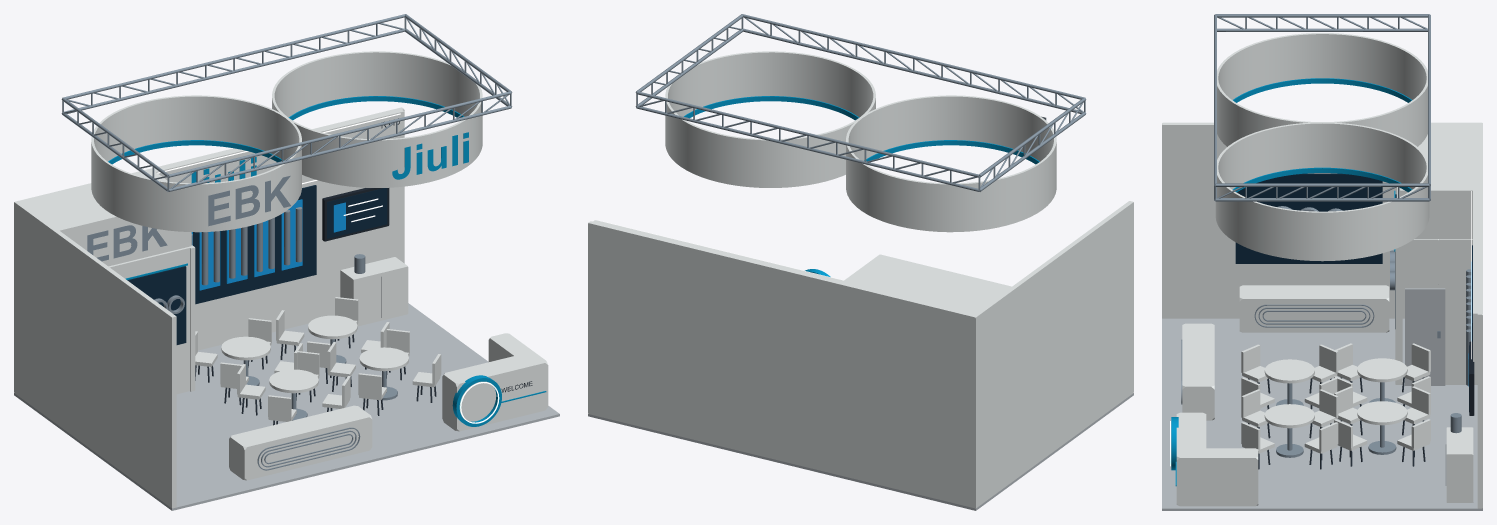
File: jiuli-r110.glb
The picture shows the model from 3 angles, left to right: view 1: azimuth 30°, elevation 25°; view 2: azimuth 150°, elevation 25°; view 3: azimuth 270°, elevation 25°; orthographic projection.
Parts seen in each view (by area): view 1: JIULI_R110__Architecture, JIULI_R110__Hanging_Ring_01, JIULI_R110__Hanging_Ring_02, JIULI_R110__Hanging_Truss, JIULI_R110__Product_Panel, JIULI_R110__Reception, JIULI_R110__Pipe_Exhibit_01, JIULI_R110__Meeting_Set_04, JIULI_R110__Service_Cabinet, JIULI_R110__Meeting_Set_03, JIULI_R110__Meeting_Set_01, JIULI_R110__Meeting_Set_02 (+5 smaller); view 2: JIULI_R110__Architecture, JIULI_R110__Hanging_Ring_01, JIULI_R110__Hanging_Ring_02, JIULI_R110__Hanging_Truss; view 3: JIULI_R110__Architecture, JIULI_R110__Hanging_Ring_02, JIULI_R110__Hanging_Ring_01, JIULI_R110__Pipe_Exhibit_02, JIULI_R110__Reception, JIULI_R110__Hanging_Truss, JIULI_R110__Pipe_Display_Side, JIULI_R110__Meeting_Set_04, JIULI_R110__Meeting_Set_02, JIULI_R110__Meeting_Set_03, JIULI_R110__Meeting_Set_01, JIULI_R110__Storage_Door (+4 smaller).
Boxes of the visible parts, box(x1,y1,x2,y2) form: JIULI_R110__Architecture: box(14, 107, 559, 510); JIULI_R110__Hanging_Ring_01: box(91, 95, 301, 232); JIULI_R110__Hanging_Ring_02: box(272, 51, 482, 187); JIULI_R110__Hanging_Truss: box(61, 14, 512, 191); JIULI_R110__Product_Panel: box(191, 185, 316, 304); JIULI_R110__Reception: box(442, 333, 548, 431); JIULI_R110__Pipe_Exhibit_01: box(229, 405, 372, 480); JIULI_R110__Meeting_Set_04: box(327, 329, 441, 415); JIULI_R110__Service_Cabinet: box(340, 254, 408, 326); JIULI_R110__Meeting_Set_03: box(237, 351, 350, 425); JIULI_R110__Meeting_Set_01: box(195, 318, 302, 405); JIULI_R110__Meeting_Set_02: box(276, 297, 389, 383); JIULI_R110__Architecture: box(588, 201, 1133, 510); JIULI_R110__Hanging_Ring_01: box(846, 95, 1056, 232); JIULI_R110__Hanging_Ring_02: box(665, 51, 875, 187); JIULI_R110__Hanging_Truss: box(635, 14, 1086, 191); JIULI_R110__Architecture: box(1162, 122, 1482, 510); JIULI_R110__Hanging_Ring_02: box(1215, 122, 1429, 261); JIULI_R110__Hanging_Ring_01: box(1217, 33, 1427, 146); JIULI_R110__Pipe_Exhibit_02: box(1239, 285, 1389, 332); JIULI_R110__Reception: box(1170, 412, 1258, 506); JIULI_R110__Hanging_Truss: box(1214, 14, 1430, 201); JIULI_R110__Pipe_Display_Side: box(1235, 173, 1382, 263); JIULI_R110__Meeting_Set_04: box(1241, 389, 1338, 469); JIULI_R110__Meeting_Set_02: box(1334, 386, 1430, 466); JIULI_R110__Meeting_Set_03: box(1241, 344, 1338, 409); JIULI_R110__Meeting_Set_01: box(1334, 343, 1430, 406); JIULI_R110__Storage_Door: box(1405, 288, 1445, 385).
Bounding box in the file's own units: 8.5 × 6.52 × 6.
